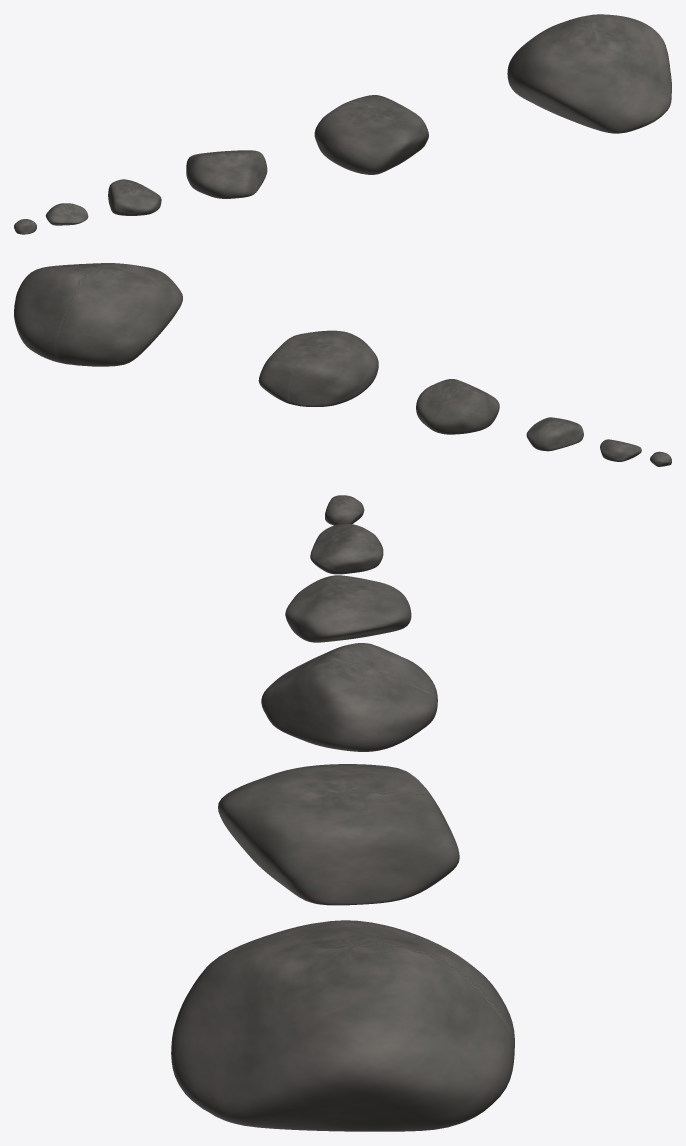
File: rocks.glb
The picture shows the model from 3 angles, top to bottom: view 1: azimuth 30°, elevation 25°; view 2: azimuth 150°, elevation 25°; view 3: azimuth 270°, elevation 25°; orthographic projection. The views are drawn at different scales.
Parts seen in each view (by area): view 1: Rock_5_mesh, Rock_4_mesh, Rock_3_mesh, Rock_2_mesh, Rock_1_mesh; view 2: Rock_5_mesh, Rock_4_mesh, Rock_3_mesh, Rock_2_mesh, Rock_1_mesh; view 3: Rock_5_mesh, Rock_4_mesh, Rock_3_mesh, Rock_2_mesh, Rock_1_mesh, Rock_0_mesh.
Part boxes in pixels (x1,y1,x2,y2): Rock_5_mesh: (507, 14, 671, 133); Rock_4_mesh: (314, 95, 428, 174); Rock_3_mesh: (186, 150, 267, 198); Rock_2_mesh: (108, 179, 161, 215); Rock_1_mesh: (45, 203, 88, 225); Rock_5_mesh: (14, 263, 182, 366); Rock_4_mesh: (258, 330, 378, 406); Rock_3_mesh: (416, 379, 499, 434); Rock_2_mesh: (526, 417, 583, 451); Rock_1_mesh: (600, 439, 641, 461); Rock_5_mesh: (171, 920, 514, 1131); Rock_4_mesh: (218, 764, 459, 905); Rock_3_mesh: (261, 643, 437, 751); Rock_2_mesh: (285, 575, 411, 642); Rock_1_mesh: (310, 524, 383, 574); Rock_0_mesh: (325, 495, 364, 525).
Size of the model in its own units: 15.86 by 1.66 by 3.68.
Materials: 1 (1 with a texture image).
